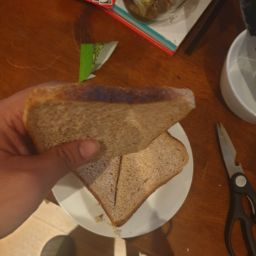Breads: (17, 74, 206, 138), (86, 127, 191, 231)
